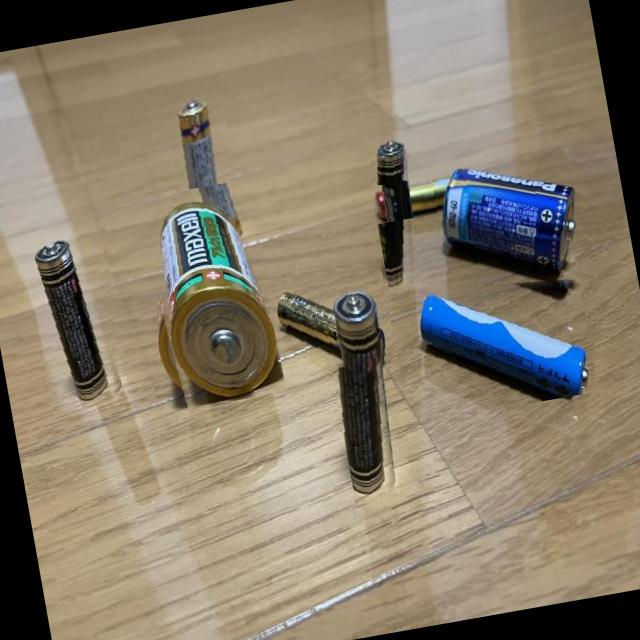Hazard: (131, 178, 286, 412), (408, 260, 598, 420), (430, 145, 598, 302), (22, 223, 136, 415), (318, 280, 408, 506), (273, 266, 398, 381), (170, 89, 250, 244), (362, 128, 432, 294), (364, 168, 480, 225)
